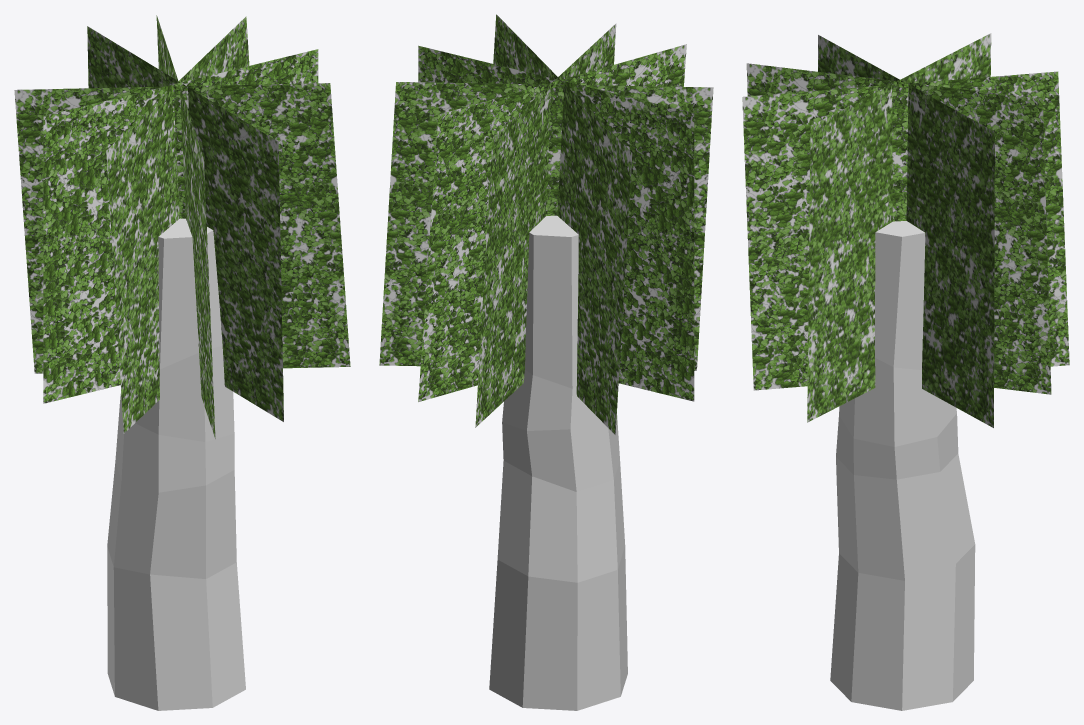
Rendered from InitialTree.glb.
3 renders of one model, left to right at view 1: azimuth 30°, elevation 25°; view 2: azimuth 150°, elevation 25°; view 3: azimuth 270°, elevation 25°, orthographic.
Visible parts, largest first — view 1: Plane, Cylinder; view 2: Plane, Cylinder; view 3: Plane, Cylinder.
Part boxes in pixels (left/top/right/bottom): Plane: left=14, top=15, right=350, bottom=439; Cylinder: left=107, top=218, right=245, bottom=710; Plane: left=379, top=14, right=713, bottom=434; Cylinder: left=489, top=215, right=627, bottom=710; Plane: left=742, top=33, right=1069, bottom=427; Cylinder: left=830, top=221, right=975, bottom=710.
Bounding box in the file's own units: 6.21 × 13.07 × 6.38.
1 material, 1 textured.
